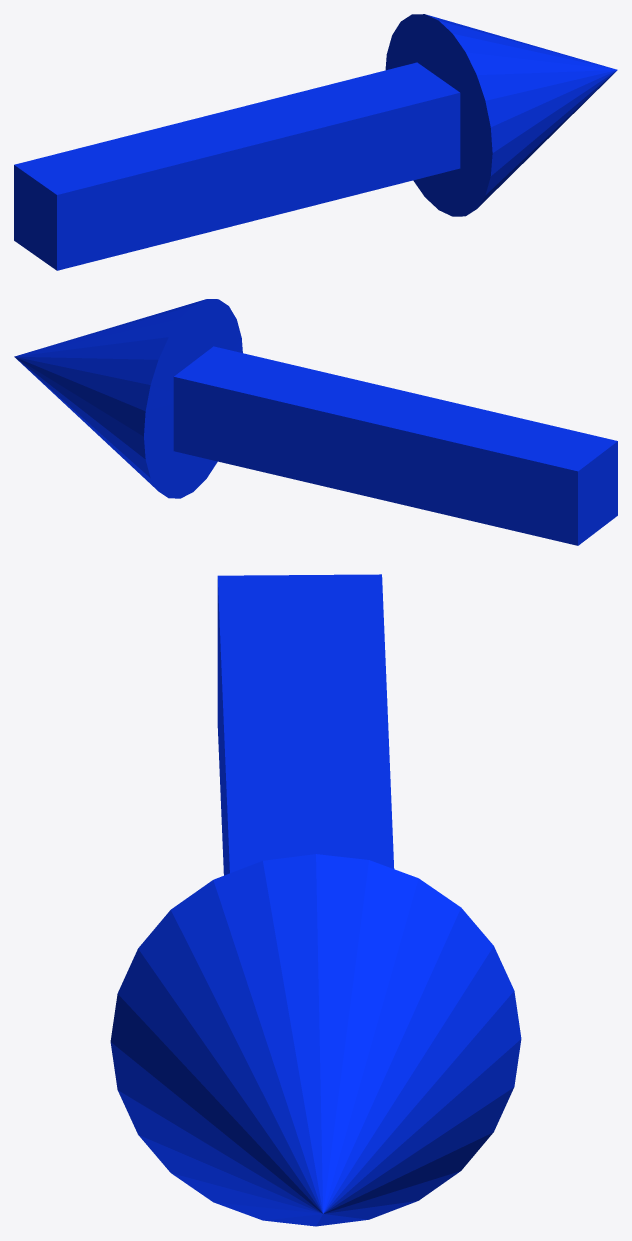
File: tinker.obj
3 renders of one model, top to bottom at view 1: azimuth 30°, elevation 25°; view 2: azimuth 150°, elevation 25°; view 3: azimuth 270°, elevation 25°, orthographic. The views are drawn at different scales.
Parts seen in each view (by area): view 1: obj_0; view 2: obj_0; view 3: obj_0.
Part boxes in pixels (left/top/right/bottom): obj_0: left=14, top=14, right=617, bottom=270; obj_0: left=14, top=299, right=617, bottom=545; obj_0: left=110, top=574, right=521, bottom=1226.
Bounding box in the file's own units: 65.06 × 20 × 20.
